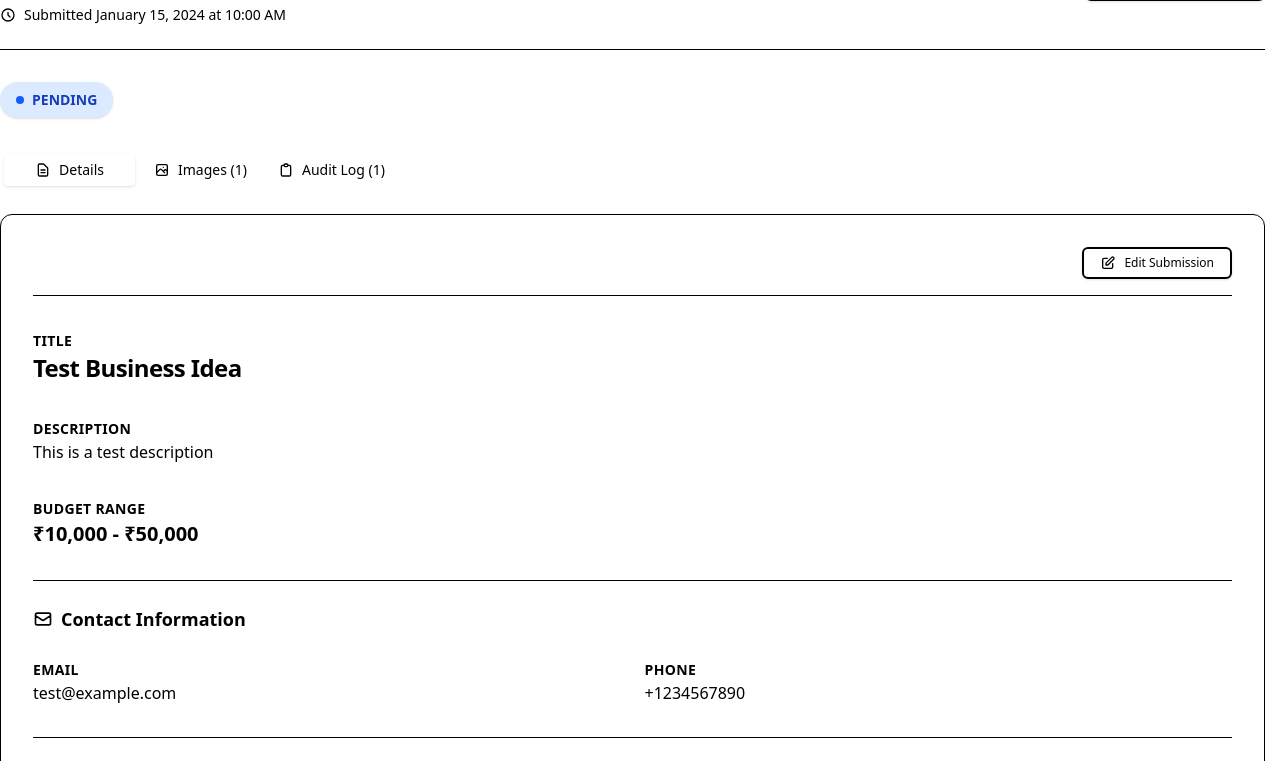
Test: AdminSubmissionDetail › should enable edit mode when clicking Edit Submission
Expected: the heading "Test Business Idea" is shown, [33,351,242,384]
// Click Edit Submission button
Click the button "Edit Submission". click: click(1157, 263)
box: [1082,247,1232,279]
(page scrolled)
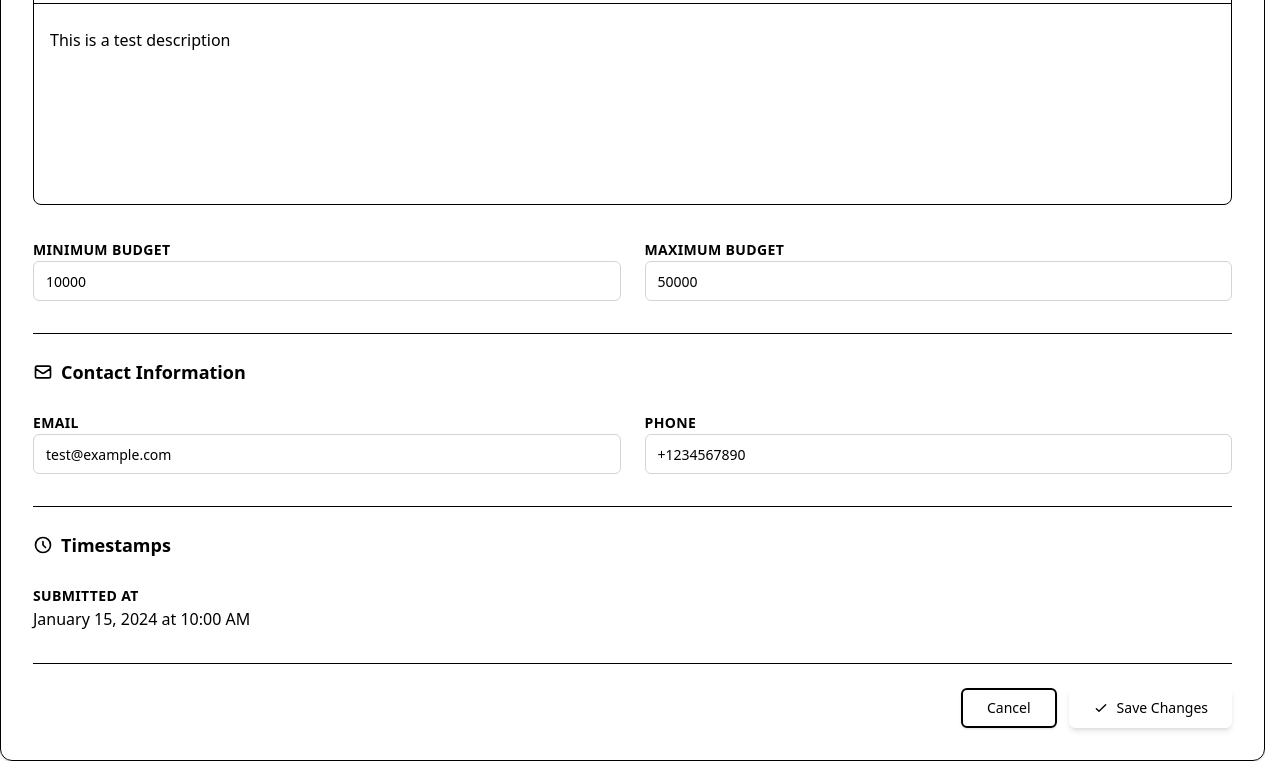
Expected: the button "Save Changes" is shown, [1069,688,1232,728]
Expected: the button "Cancel" is shown, [961,688,1057,728]
